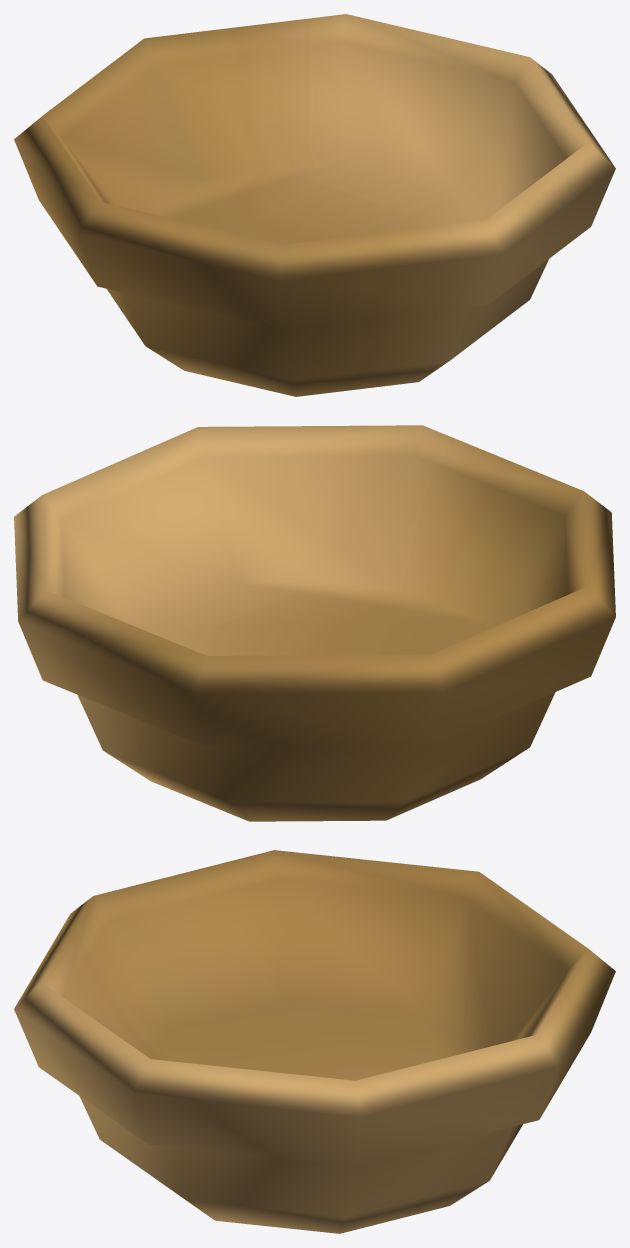
Rendered from basket.glb.
3 renders of one model, top to bottom at view 1: azimuth 30°, elevation 25°; view 2: azimuth 150°, elevation 25°; view 3: azimuth 270°, elevation 25°, orthographic. The views are drawn at different scales.
Parts seen in each view (by area): view 1: basket; view 2: basket; view 3: basket.
Boxes of the visible parts, box(x1,y1,x2,y2) form: basket: box(14, 14, 615, 396); basket: box(14, 425, 615, 821); basket: box(14, 850, 615, 1233).
Size of the model in its own units: 1.1 by 0.3998 by 1.1.
Materials: 1 (1 with a texture image).
